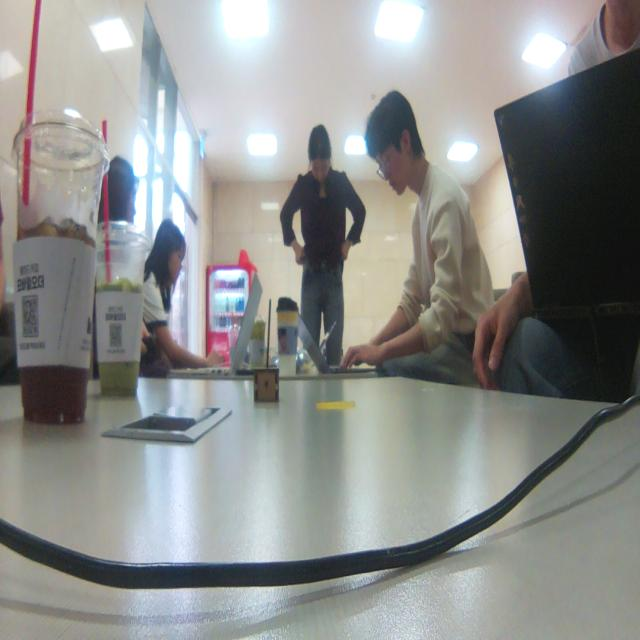target: (253, 368, 279, 402)
